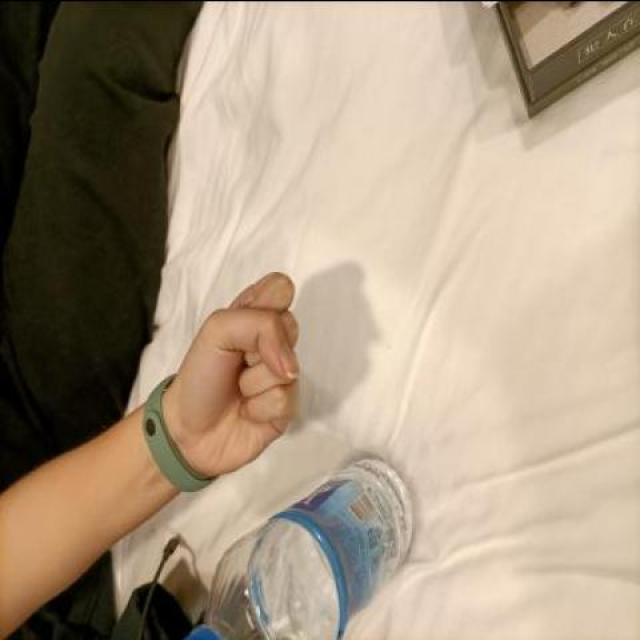Closed Hand: (122, 262, 326, 493)
